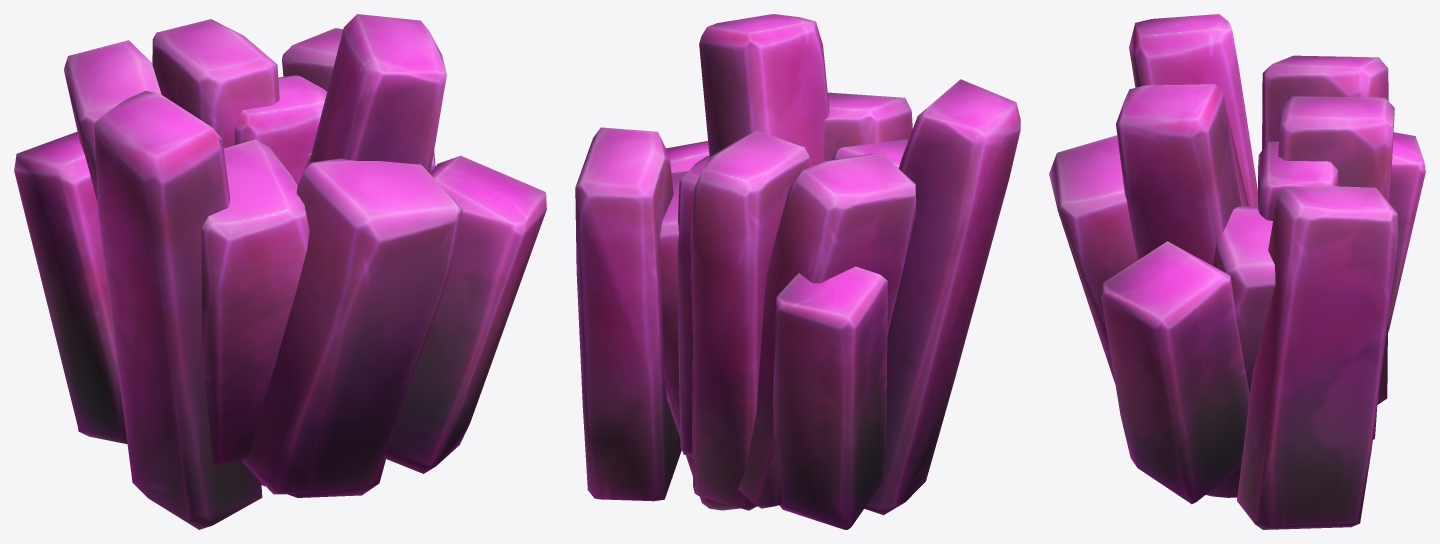
File: SM_Gem_Kunzite_007.fbx
The picture shows the model from 3 angles, left to right: view 1: azimuth 30°, elevation 25°; view 2: azimuth 150°, elevation 25°; view 3: azimuth 270°, elevation 25°; orthographic projection. The views are drawn at different scales.
Visible parts, largest first — view 1: SM_Gem_Kunzite_007; view 2: SM_Gem_Kunzite_007; view 3: SM_Gem_Kunzite_007.
Boxes of the visible parts, x1,y1,x2,y2 form: SM_Gem_Kunzite_007: (14, 14, 546, 529); SM_Gem_Kunzite_007: (575, 14, 1020, 529); SM_Gem_Kunzite_007: (1049, 14, 1425, 529).
Size of the model in its own units: 63.89 by 70.28 by 57.46.
